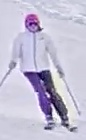skier: (1, 14, 82, 132)
